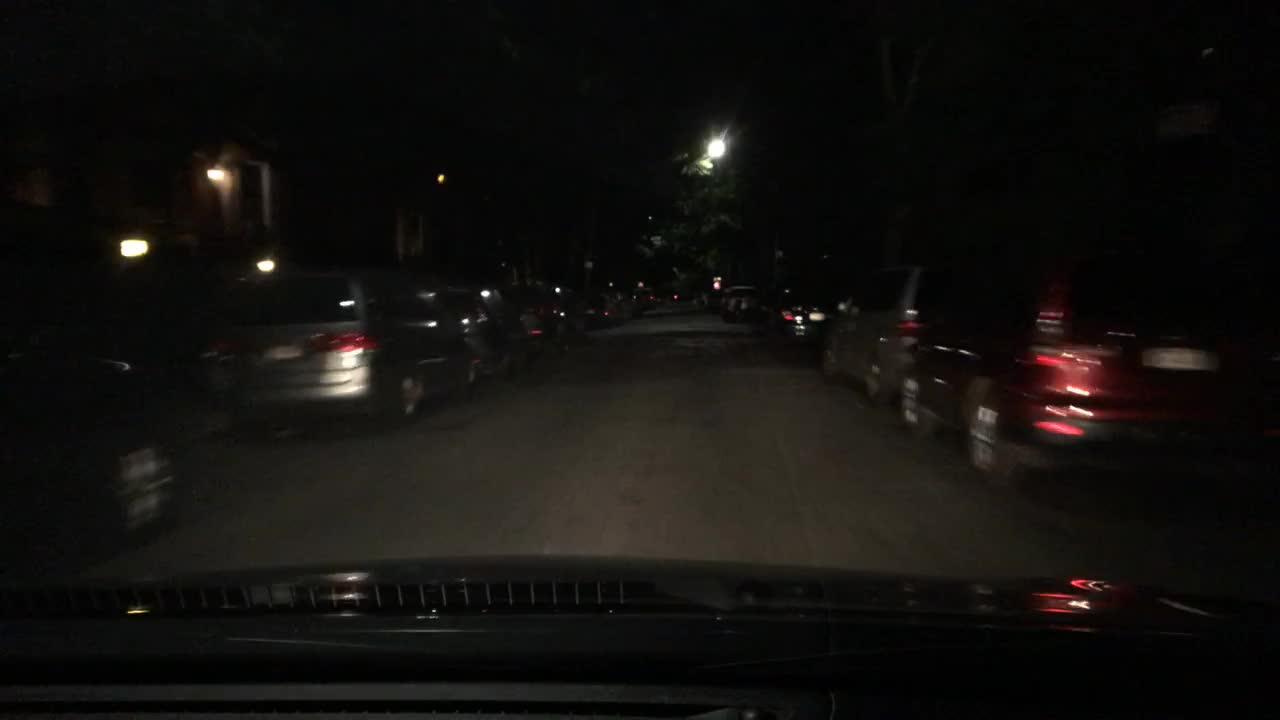car: (897, 259, 1278, 534), (0, 265, 267, 622), (237, 271, 503, 423), (885, 301, 999, 446), (856, 294, 937, 411), (815, 292, 882, 377), (770, 288, 835, 351), (481, 289, 539, 335), (536, 286, 593, 329), (757, 286, 793, 334), (590, 283, 626, 317), (740, 283, 766, 321), (624, 282, 647, 309), (724, 282, 747, 309), (647, 283, 665, 309), (680, 288, 705, 303), (665, 284, 680, 303)
